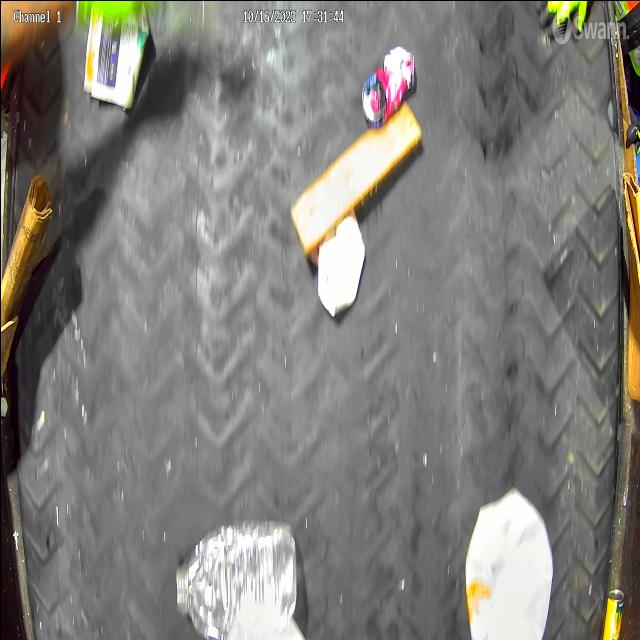can: (358, 40, 417, 126)
milk_jug: (462, 484, 561, 640)
plastic_bottle: (173, 520, 296, 634)
